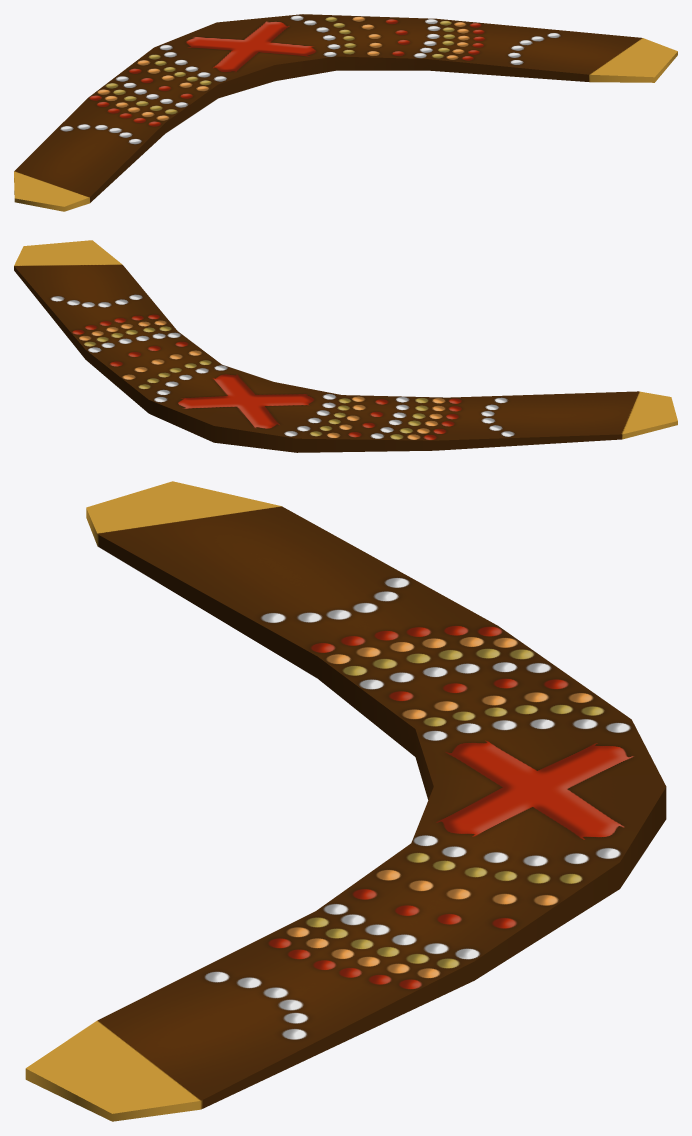
The model's file is Boomerang.fbx.
The picture shows the model from 3 angles, top to bottom: view 1: azimuth 30°, elevation 25°; view 2: azimuth 150°, elevation 25°; view 3: azimuth 270°, elevation 25°; orthographic projection. The views are drawn at different scales.
Parts seen in each view (by area): view 1: boomerang; view 2: boomerang; view 3: boomerang.
Part boxes in pixels (x1,y1,x2,y2): boomerang: [14, 14, 677, 211]; boomerang: [14, 240, 677, 452]; boomerang: [25, 481, 666, 1121].
Size of the model in its own units: 4.97 by 0.1191 by 2.13.
